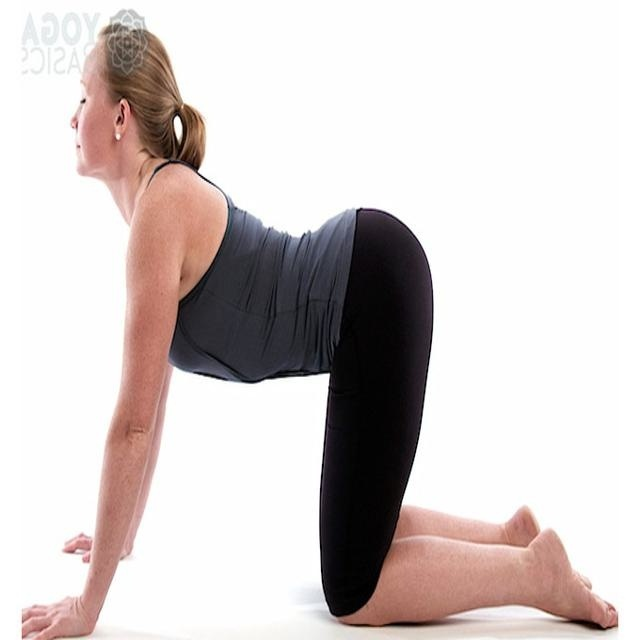Cow_Pose: (23, 30, 617, 633)
